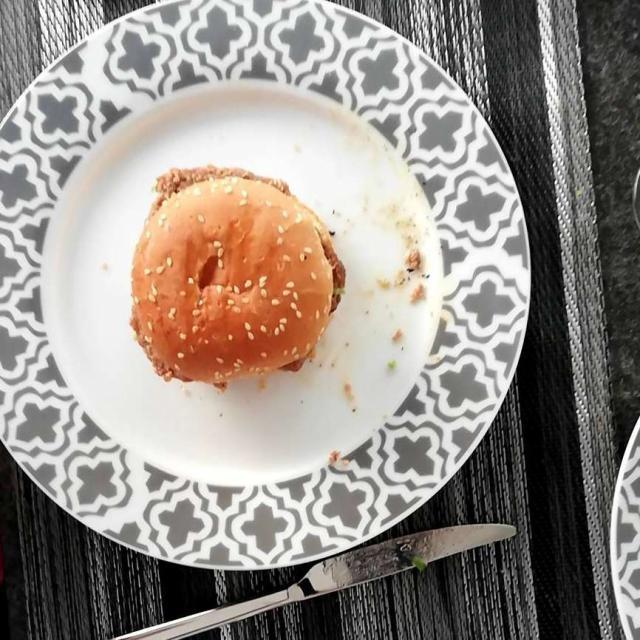hamburger: (130, 170, 350, 374)
